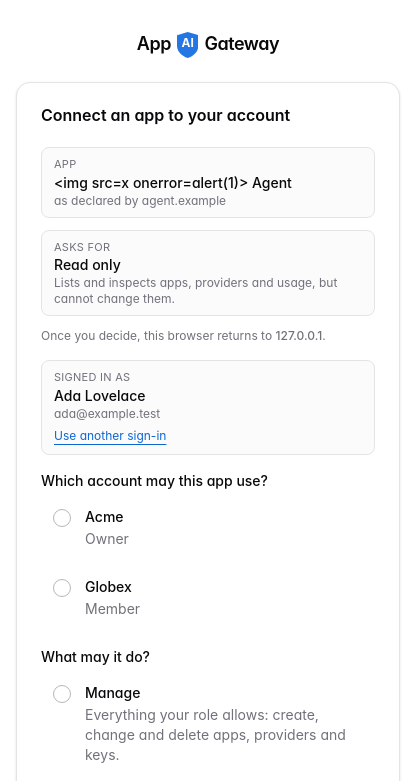
it: OAuthConsentPage signed in › shows the client as declared by its domain, as text, and allows with the chosen account and grant
Expected: the text "<img src=x onerror=alert(1)> Agent" is shown, [54, 174, 292, 190]
Expected: the text "as declared by agent.example" is shown, [54, 192, 226, 208]
What coordinates should you click on to do the following:
click the radio button labelled "Globex Member"
I would click on:
 (108, 586)
Its box is [41, 564, 375, 630].
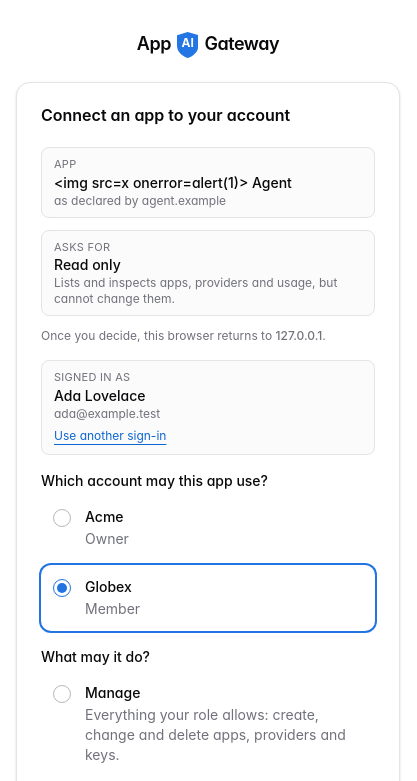
What coordinates should you click on to do the following:
click the radio button labelled "Manage"
I would click on:
 (208, 724)
Its box is [41, 670, 375, 776].
(page scrolled)
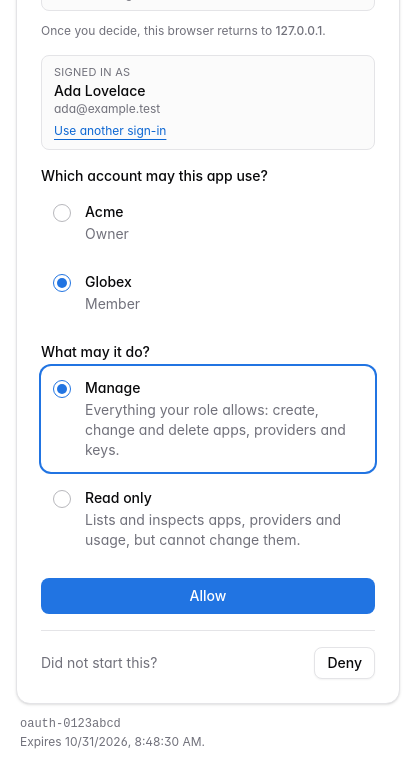
What coordinates should you click on to do the following:
click the button "Allow"
I would click on:
 (208, 596)
Its box is [41, 578, 375, 614].
(page scrolled)
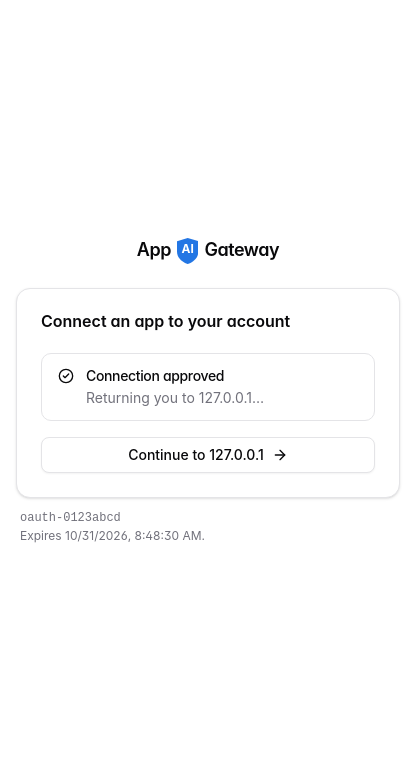
Result: the text "Returning you to 127.0.0.1…" is shown at [86, 389, 264, 406]
